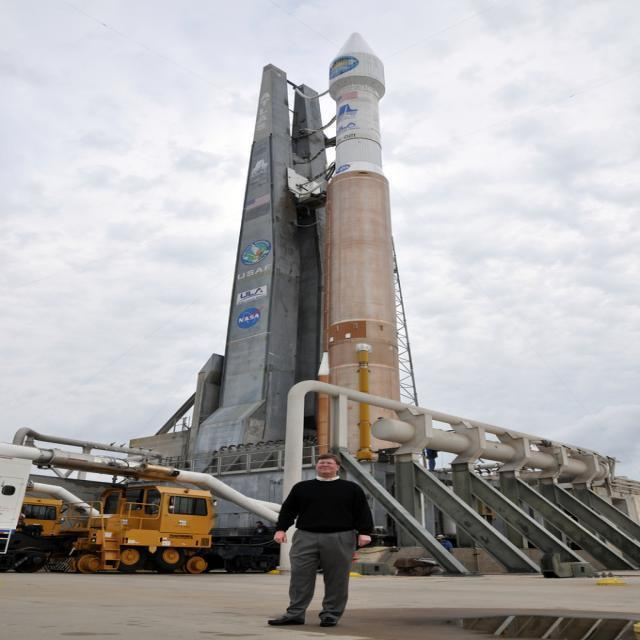missile: (308, 28, 418, 448)
